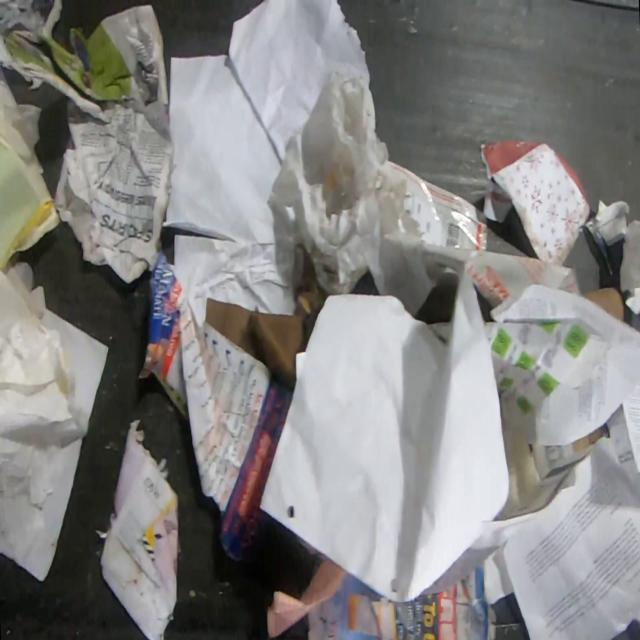cardboard: (386, 159, 489, 253), (580, 284, 625, 324)
